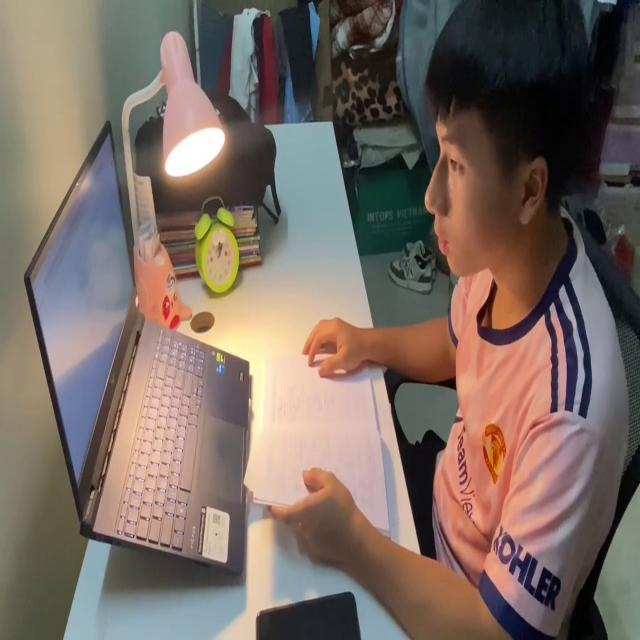book: (251, 342, 389, 538)
laptop: (24, 113, 251, 587)
phone: (247, 587, 361, 640)
student: (268, 0, 632, 640)
